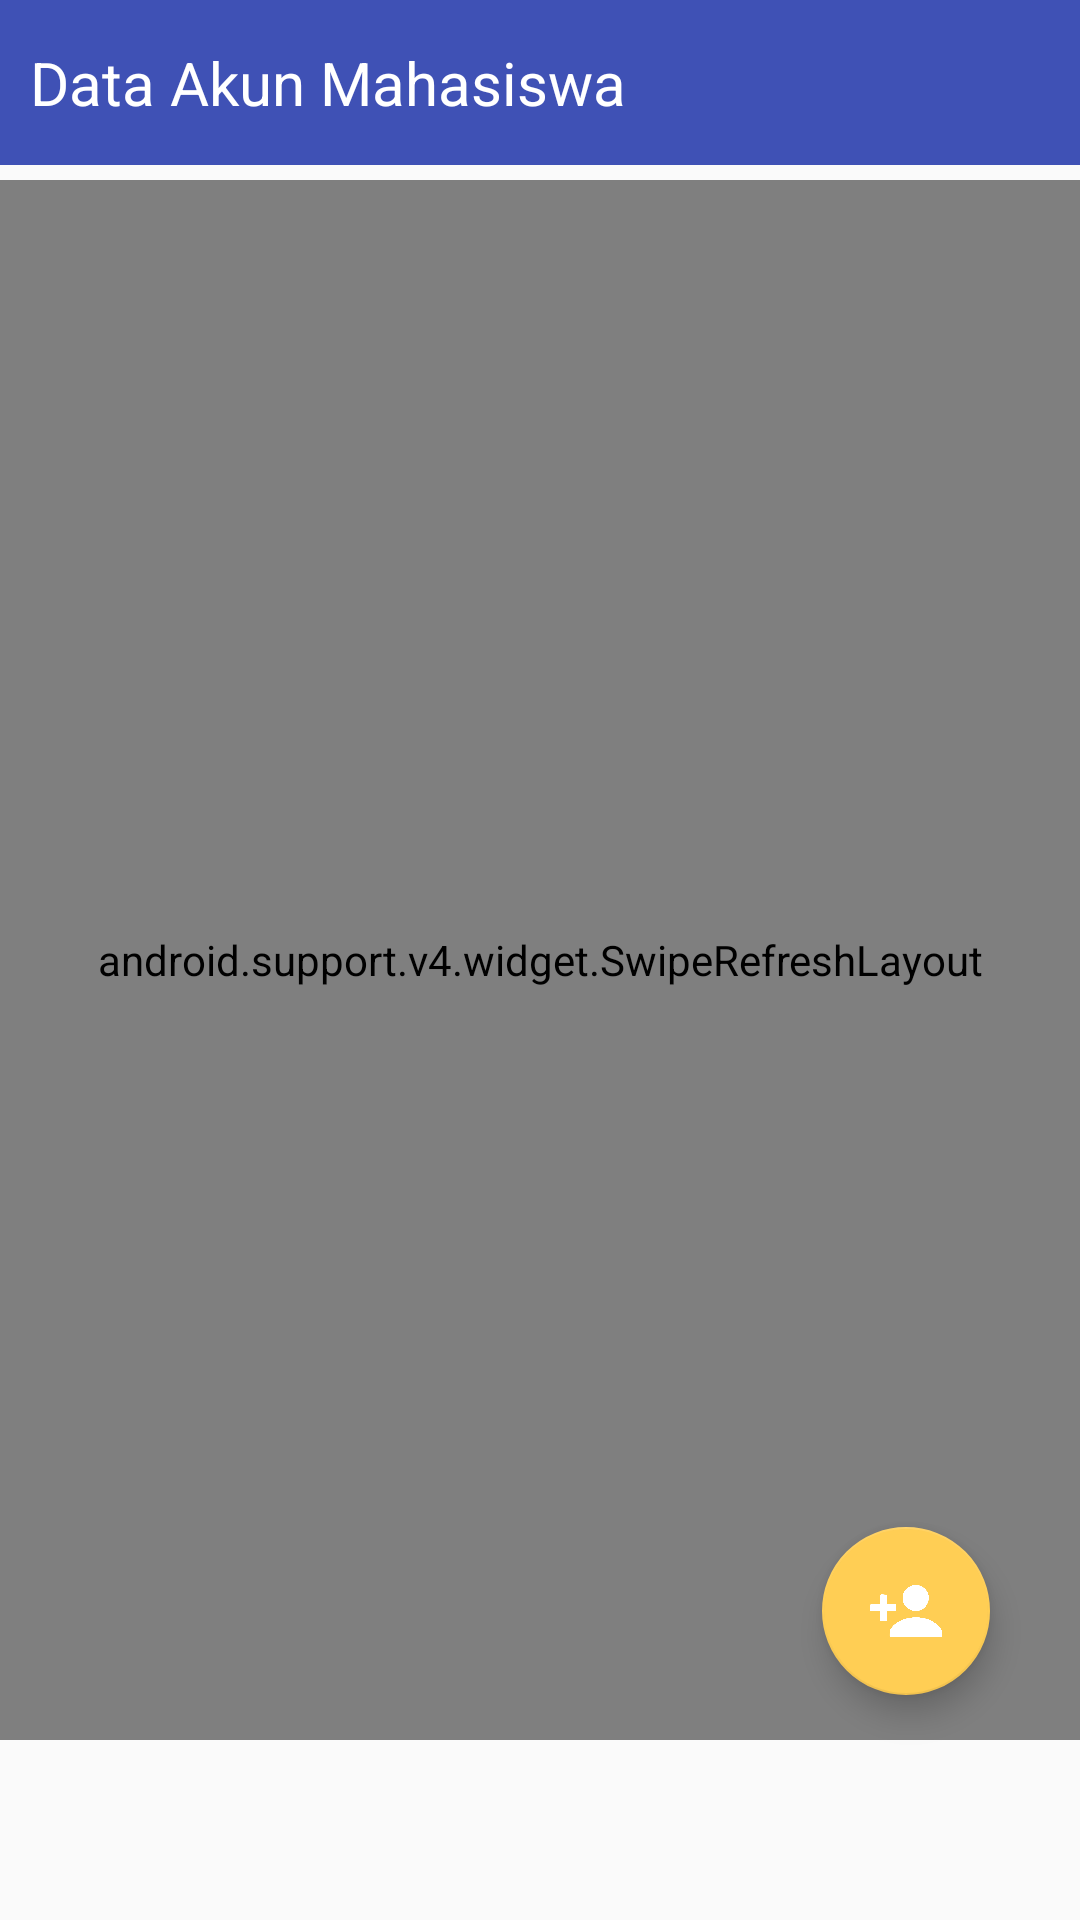

Icons on this 1080 × 1920 Android screen, each with its box as (x1, y1, x2, y2):
plus user: (822, 1527, 990, 1695)
